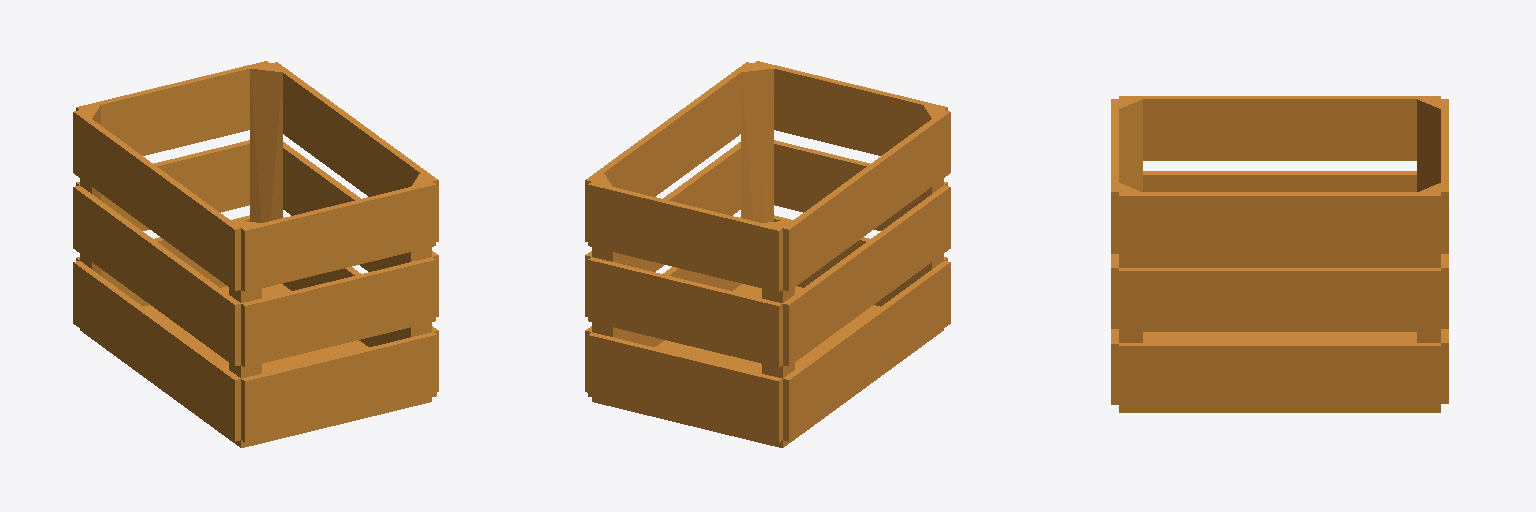
3 views of the same model, side by side, from view 1: azimuth 30°, elevation 25°; view 2: azimuth 150°, elevation 25°; view 3: azimuth 270°, elevation 25° (orthographic).
Visible parts, largest first — view 1: group[number redacted], group[number redacted], group[number redacted]; view 2: group[number redacted], group[number redacted], group[number redacted]; view 3: group[number redacted], group[number redacted], group[number redacted].
Boxes of the visible parts, box(x1,y1,x2,y2) form: group[number redacted]: box(73, 105, 436, 442); group[number redacted]: box(76, 61, 438, 391); group[number redacted]: box(80, 284, 431, 447); group[number redacted]: box(585, 62, 782, 442); group[number redacted]: box(753, 61, 950, 441); group[number redacted]: box(592, 284, 943, 447); group[number redacted]: box(1119, 99, 1448, 407); group[number redacted]: box(1111, 96, 1440, 404); group[number redacted]: box(1119, 332, 1440, 412).
Size of the model in its own units: 1.56 by 1.61 by 2.24.